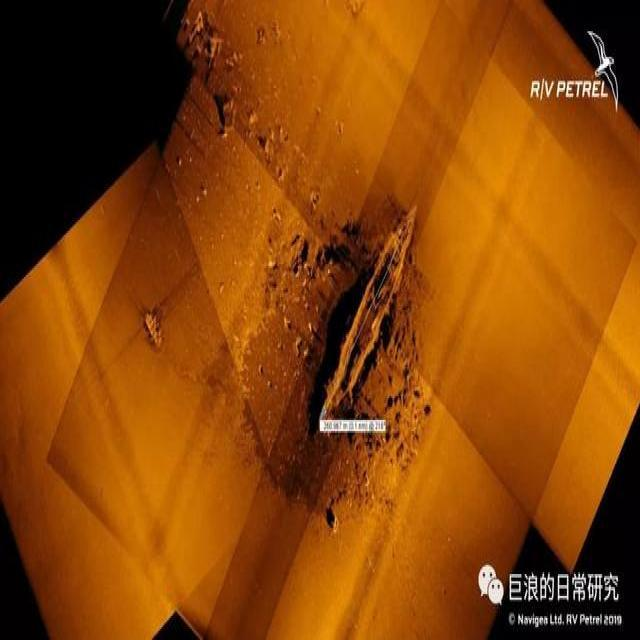shipwreck: (313, 202, 422, 431)
